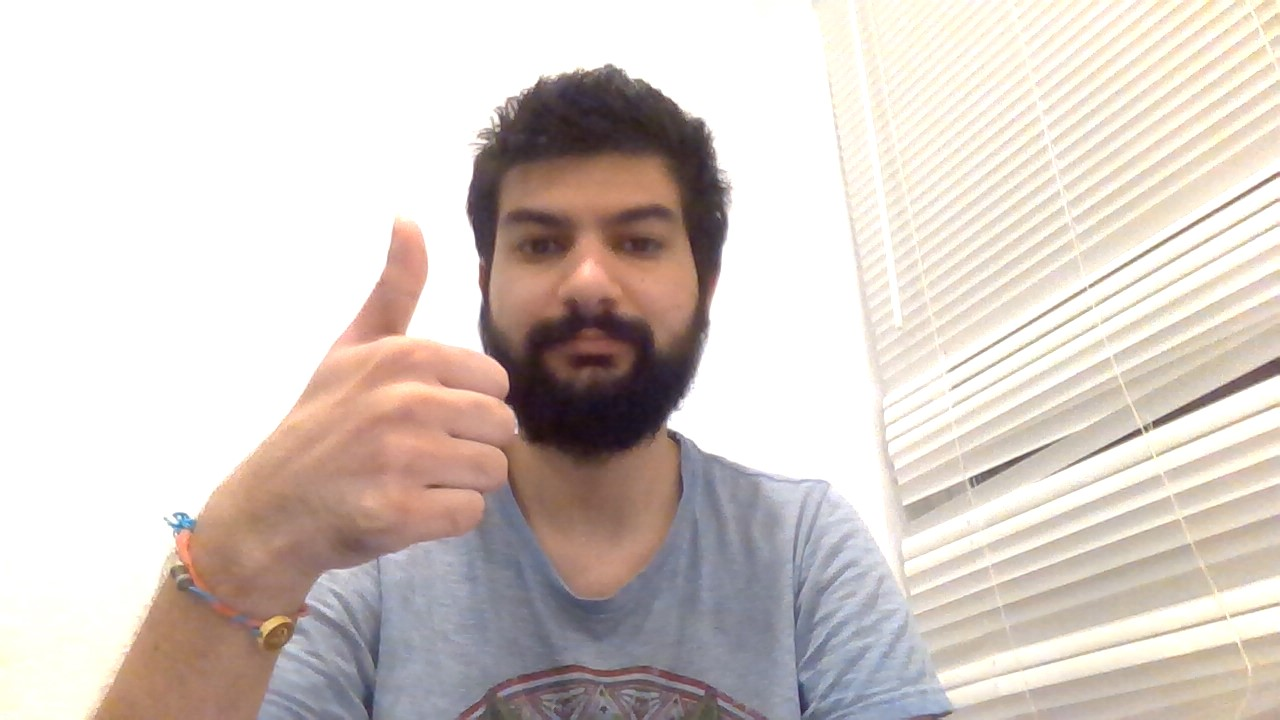up: (266, 208, 538, 558)
